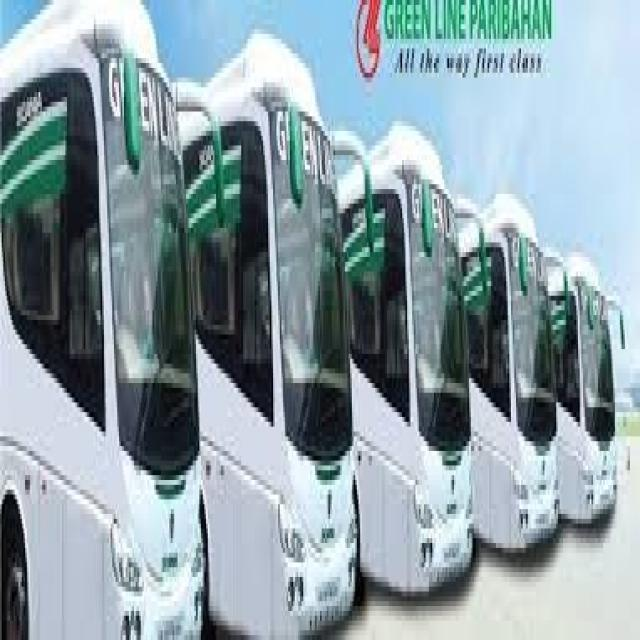bus: (4, 0, 221, 640), (171, 0, 368, 640), (330, 34, 482, 630), (471, 124, 563, 582), (554, 225, 627, 546)
